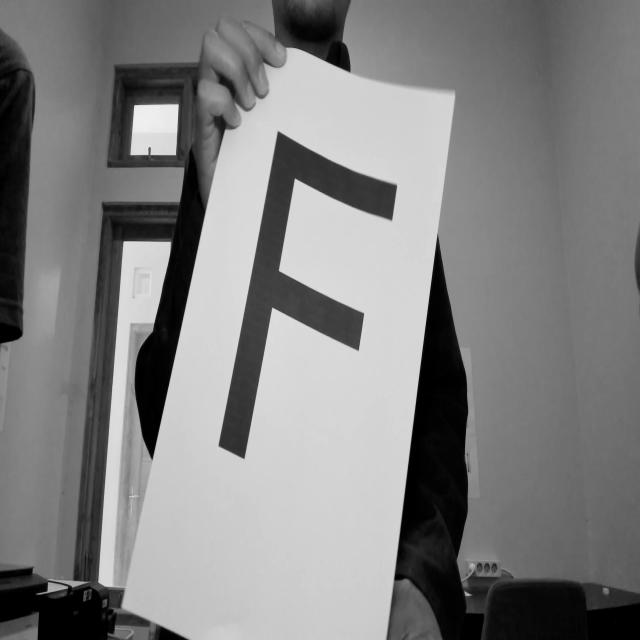f: (208, 113, 402, 480)
